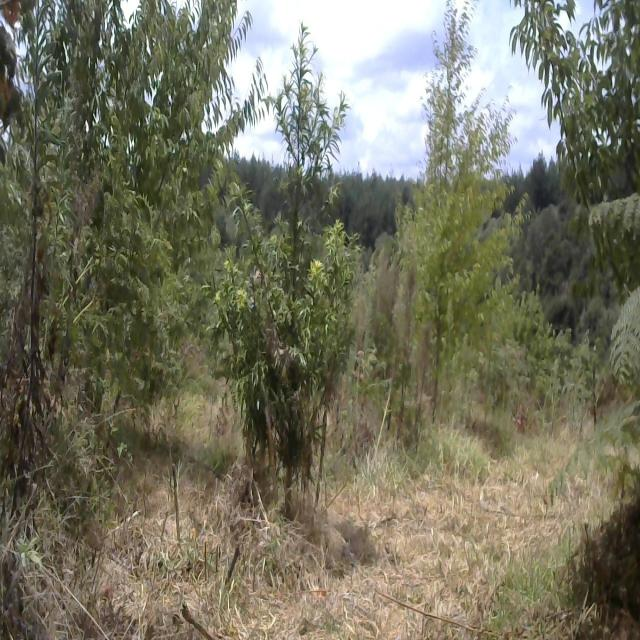Podocarpus falcatus: (222, 12, 366, 453)
other: (43, 1, 245, 387), (400, 4, 530, 397), (509, 0, 640, 352)
